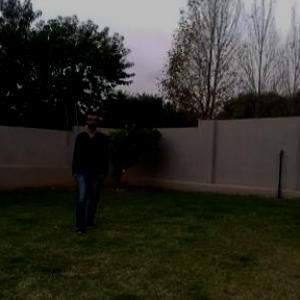follow: (73, 114, 101, 226)
